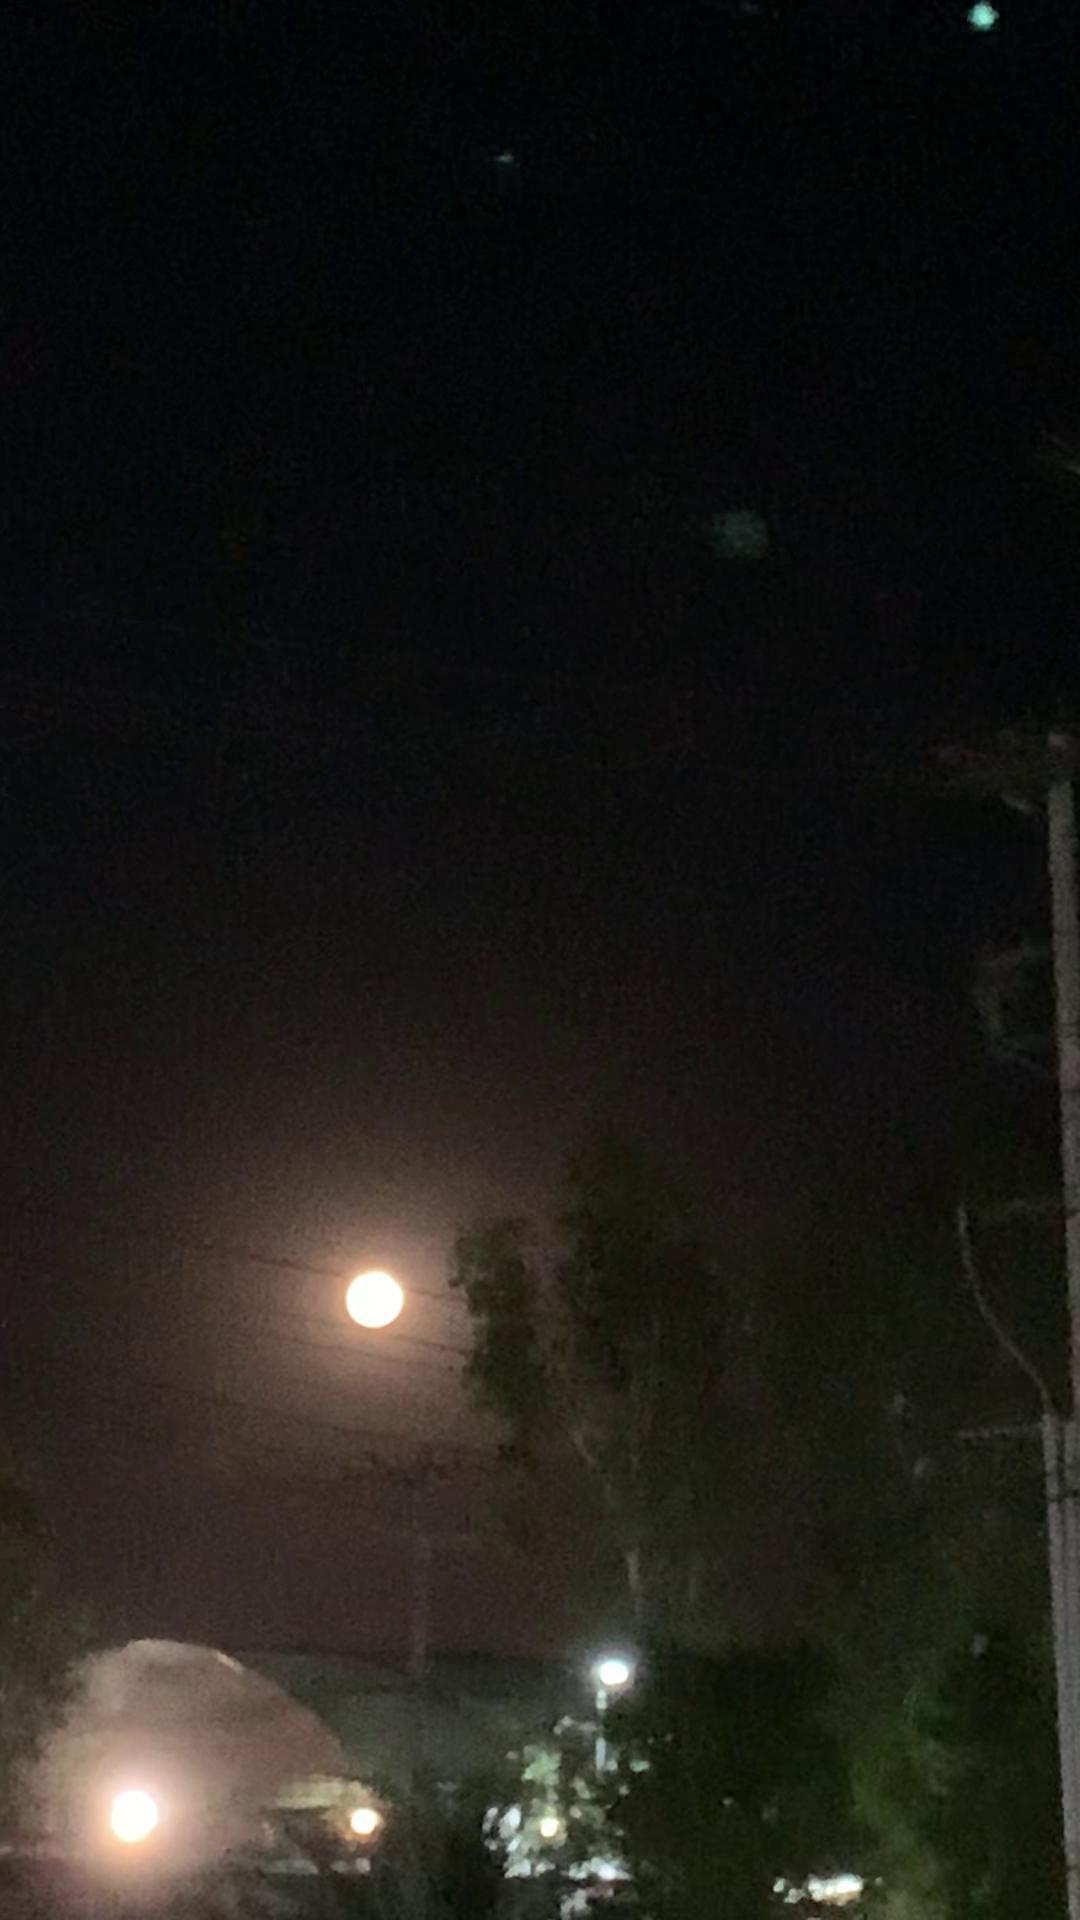moon: (334, 1259, 405, 1331)
